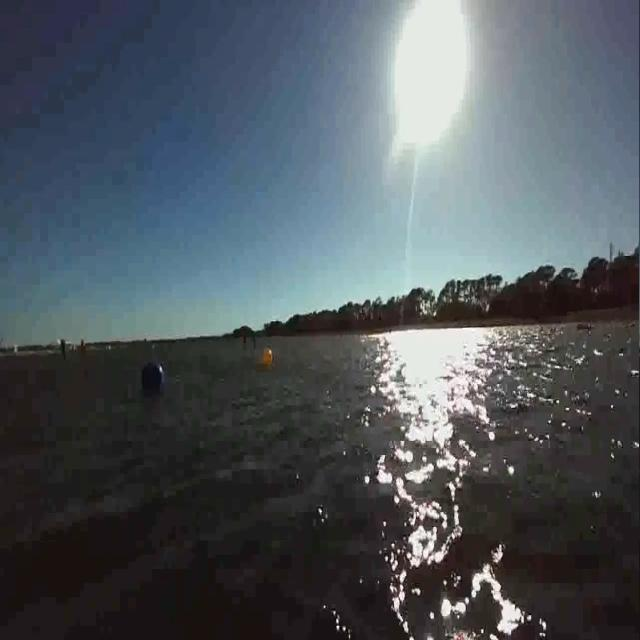blue-buoy: (141, 362, 163, 394)
